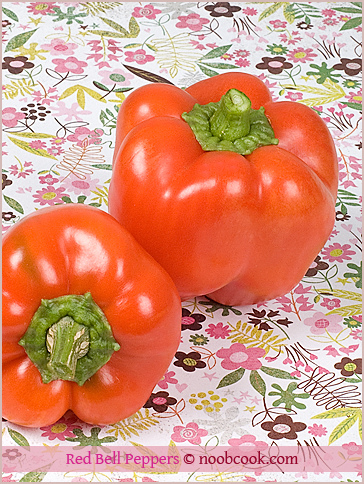capsicum: (109, 70, 339, 307), (0, 203, 180, 427)
